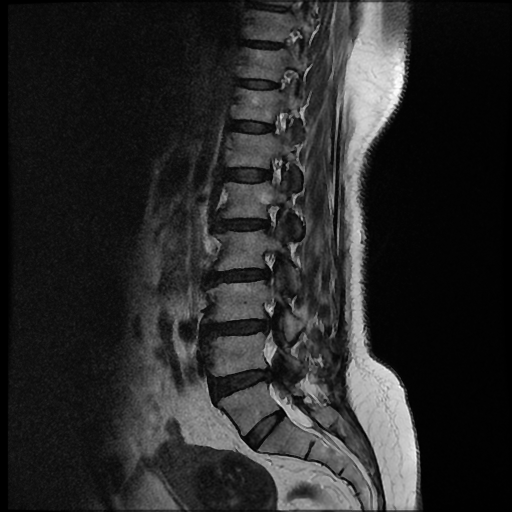RFS0: (250, 194, 289, 245)
